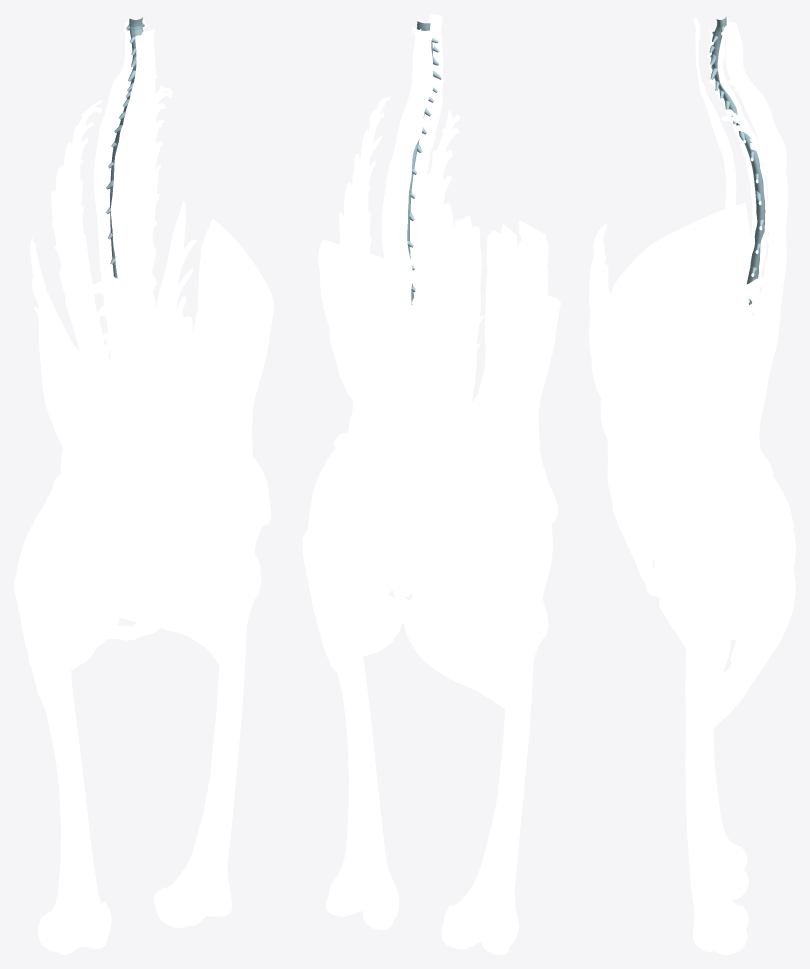
Rendered from lumbar.glb.
3 renders of one model, left to right at view 1: azimuth 30°, elevation 25°; view 2: azimuth 150°, elevation 25°; view 3: azimuth 270°, elevation 25°, orthographic.
Parts seen in each view (by area): view 1: Transversus_abdominis_muscle, Rectus_abdominis_muscle, Femur, Rectus_abdominis_muscle_L, Femur_L, Transversus_abdominis_muscle_L, Anterior_longitudinal_ligament, Longissimus_thoracis_muscle, Hip_bone, Iliacus_muscle, Longissimus_thoracis_muscle_L, Gluteus_medius_muscle (+16 smaller); view 2: Gluteus_maximus_muscle, Transversus_abdominis_muscle, Gluteus_maximus_muscle_L, Femur, Longissimus_thoracis_muscle_L, Longissimus_thoracis_muscle, Femur_L, Iliocostalis_lumborum_muscle, Gluteus_medius_muscle, Transversus_abdominis_muscle_L, Iliocostalis_lumborum_muscle_L, Ligamenta_flava (+13 smaller); view 3: Transversus_abdominis_muscle_L, Femur_L, Transversus_abdominis_muscle, Gluteus_maximus_muscle_L, Gluteus_medius_muscle_L, Rectus_abdominis_muscle_L, Interspinous_ligaments, Hip_bone_L, Longissimus_thoracis_muscle_L, Femur, Anterior_longitudinal_ligament, Iliocostalis_lumborum_muscle_L (+10 smaller).
Part boxes in pixels (x1=…): Transversus_abdominis_muscle: x1=32, y1=262, x2=182, y2=621; Rectus_abdominis_muscle: x1=127, y1=306, x2=194, y2=617; Femur: x1=24, y1=587, x2=111, y2=954; Rectus_abdominis_muscle_L: x1=174, y1=286, x2=261, y2=612; Femur_L: x1=154, y1=562, x2=261, y2=927; Transversus_abdominis_muscle_L: x1=177, y1=219, x2=273, y2=616; Anterior_longitudinal_ligament: x1=116, y1=28, x2=155, y2=356; Longissimus_thoracis_muscle: x1=51, y1=100, x2=109, y2=362; Hip_bone: x1=45, y1=474, x2=161, y2=640; Iliacus_muscle: x1=70, y1=569, x2=113, y2=670; Longissimus_thoracis_muscle_L: x1=139, y1=85, x2=172, y2=291; Gluteus_medius_muscle: x1=18, y1=502, x2=61, y2=636; Gluteus_maximus_muscle: x1=403, y1=509, x2=534, y2=723; Transversus_abdominis_muscle: x1=462, y1=235, x2=560, y2=489; Gluteus_maximus_muscle_L: x1=302, y1=485, x2=402, y2=681; Femur: x1=441, y1=618, x2=548, y2=954; Longissimus_thoracis_muscle_L: x1=339, y1=96, x2=406, y2=568; Longissimus_thoracis_muscle: x1=399, y1=110, x2=459, y2=571; Femur_L: x1=326, y1=656, x2=399, y2=929; Iliocostalis_lumborum_muscle: x1=403, y1=283, x2=484, y2=585; Gluteus_medius_muscle: x1=462, y1=490, x2=552, y2=633; Transversus_abdominis_muscle_L: x1=320, y1=231, x2=478, y2=457; Iliocostalis_lumborum_muscle_L: x1=318, y1=246, x2=389, y2=579; Ligamenta_flava: x1=400, y1=26, x2=433, y2=361; Transversus_abdominis_muscle_L: x1=603, y1=271, x2=752, y2=585; Femur_L: x1=679, y1=587, x2=748, y2=954; Transversus_abdominis_muscle: x1=604, y1=203, x2=751, y2=343; Gluteus_maximus_muscle_L: x1=709, y1=499, x2=795, y2=733; Gluteus_medius_muscle_L: x1=676, y1=495, x2=751, y2=650; Rectus_abdominis_muscle_L: x1=589, y1=266, x2=655, y2=584; Interspinous_ligaments: x1=725, y1=22, x2=785, y2=373; Hip_bone_L: x1=646, y1=481, x2=773, y2=639; Longissimus_thoracis_muscle_L: x1=721, y1=109, x2=786, y2=494; Femur: x1=685, y1=621, x2=748, y2=900; Anterior_longitudinal_ligament: x1=693, y1=18, x2=736, y2=315; Iliocostalis_lumborum_muscle_L: x1=739, y1=272, x2=780, y2=527.
Size of the model in its own units: 0.3007 by 1.12 by 0.2316.
